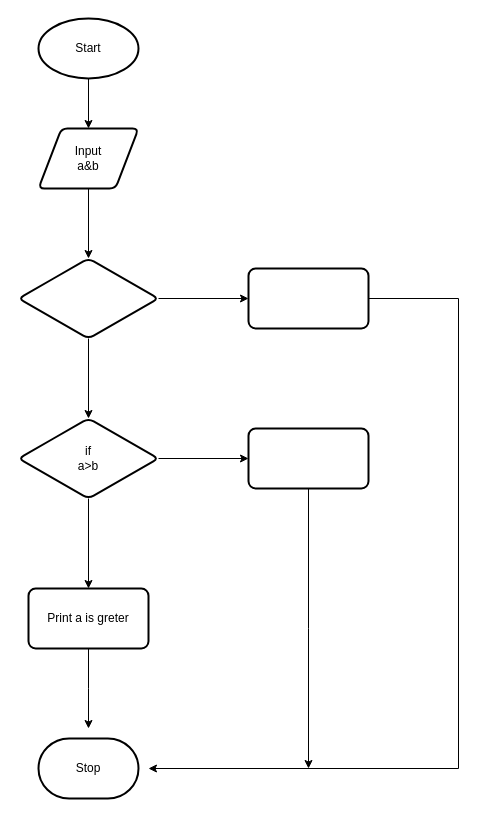
This 484x816 diagram has some shape labels left out. Here are the shapes that lost their labels. From the top down, the box of each, then its label:
(17, 257, 159, 339): if a==b
(247, 267, 369, 329): Print a&b are equals
(247, 427, 369, 489): Print b is greter
